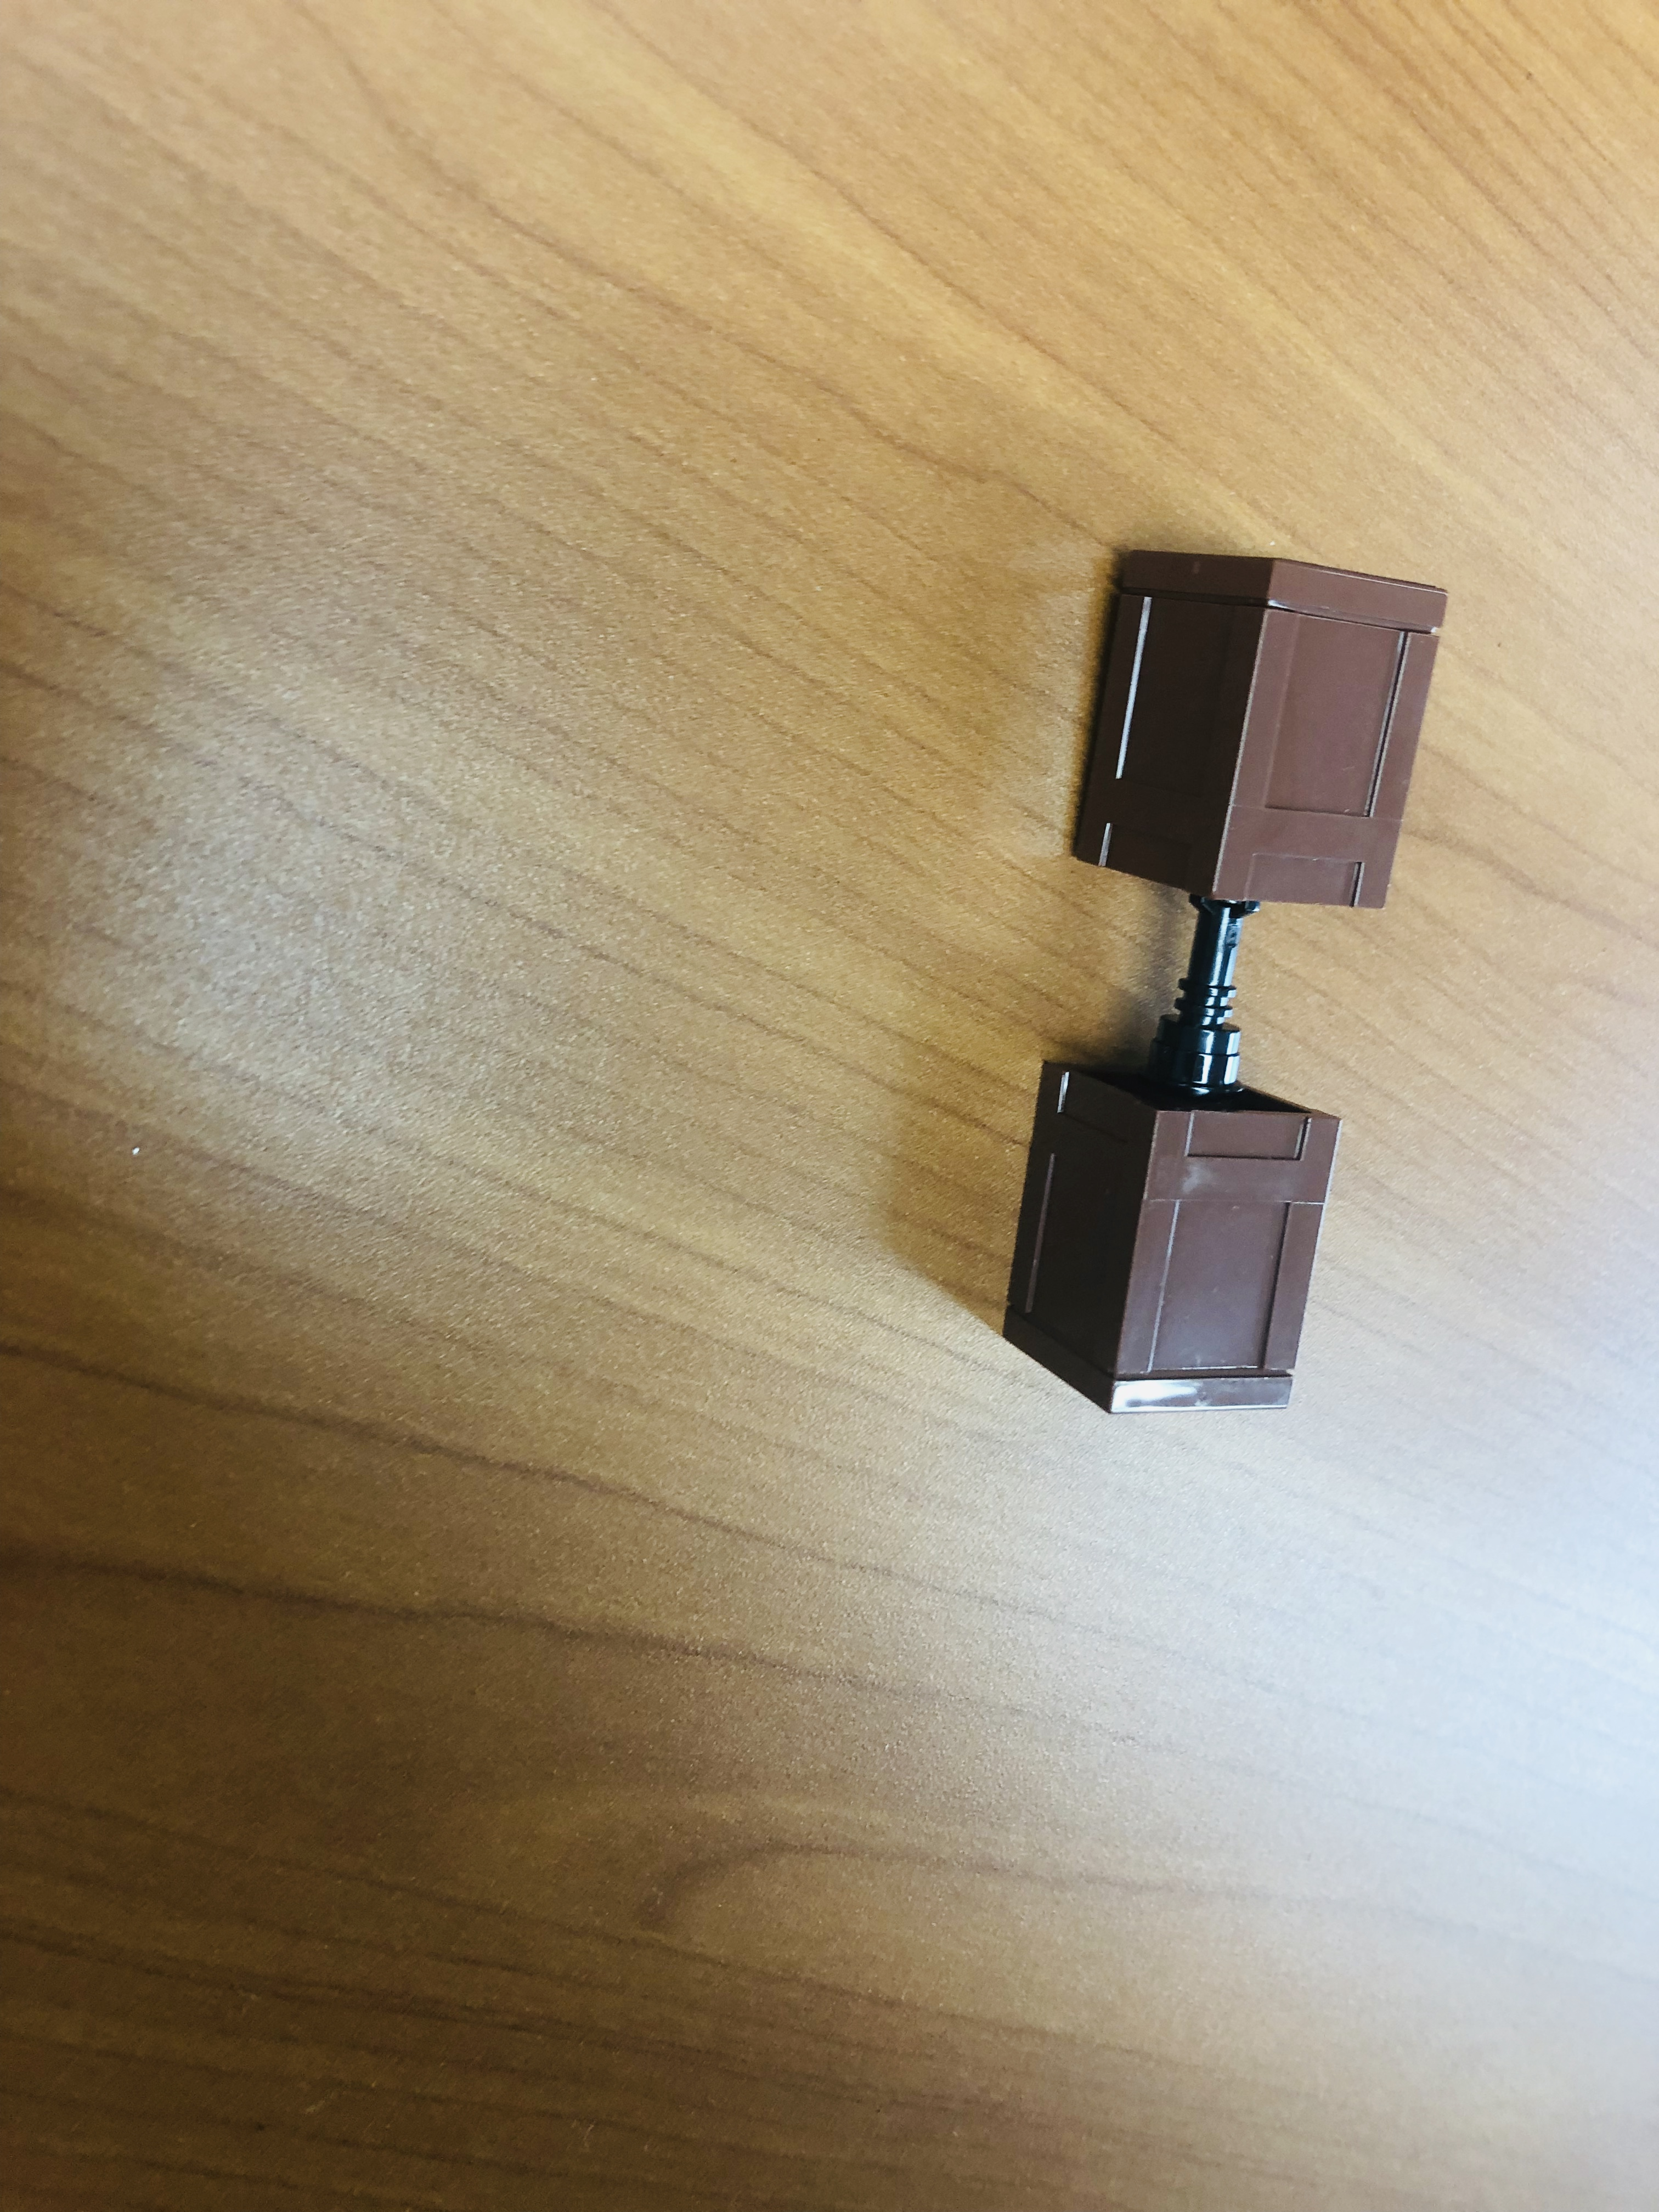box: (1061, 548, 1452, 917), (997, 1059, 1345, 1418)
